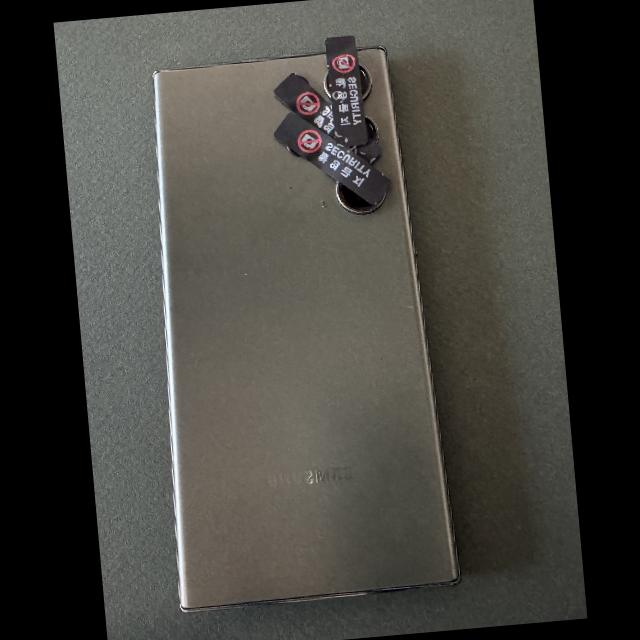lens: (334, 182, 386, 215), (357, 63, 371, 100), (362, 115, 378, 143)
phone: (152, 46, 460, 613)
sticker: (272, 112, 391, 205), (323, 35, 368, 147), (273, 75, 334, 137)
